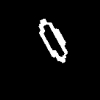chain: (39, 19, 66, 62)
